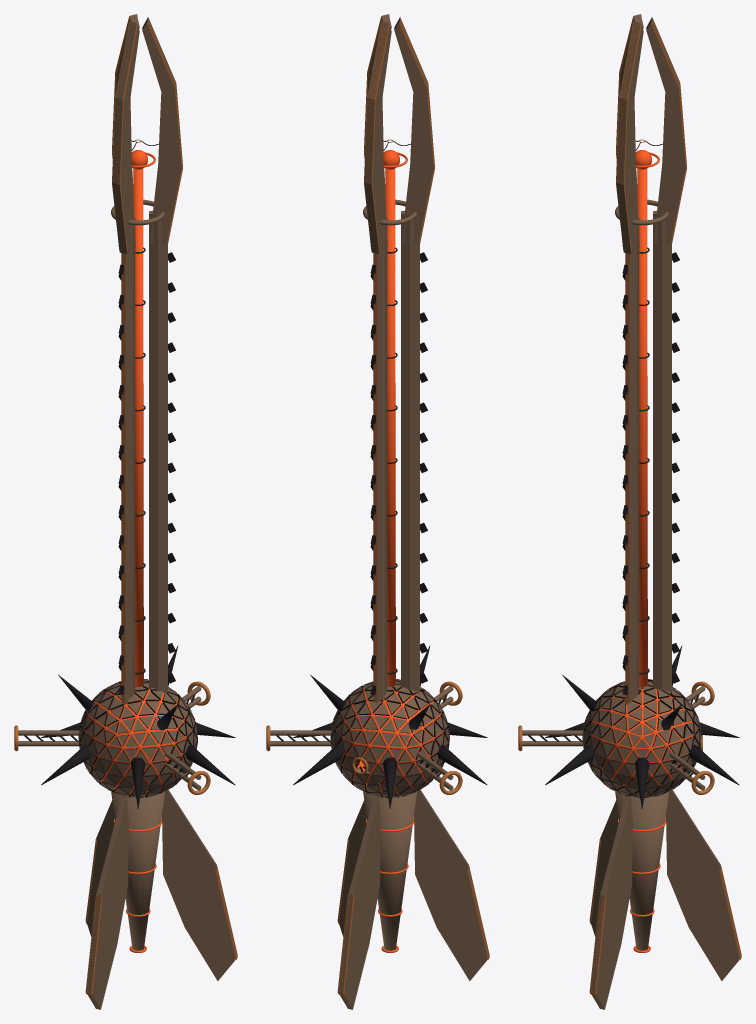
The model's file is hauptkanone.obj.
The picture shows the model from 3 angles, left to right: view 1: azimuth 30°, elevation 25°; view 2: azimuth 150°, elevation 25°; view 3: azimuth 270°, elevation 25°; orthographic projection.
Visible parts, largest first — view 1: Hauptkanone; view 2: Hauptkanone; view 3: Hauptkanone.
Part boxes in pixels (left/top/right/bottom): Hauptkanone: left=14, top=14, right=237, bottom=1009; Hauptkanone: left=266, top=14, right=489, bottom=1009; Hauptkanone: left=518, top=14, right=741, bottom=1009.
Size of the model in its own units: 273 by 1280 by 269.
